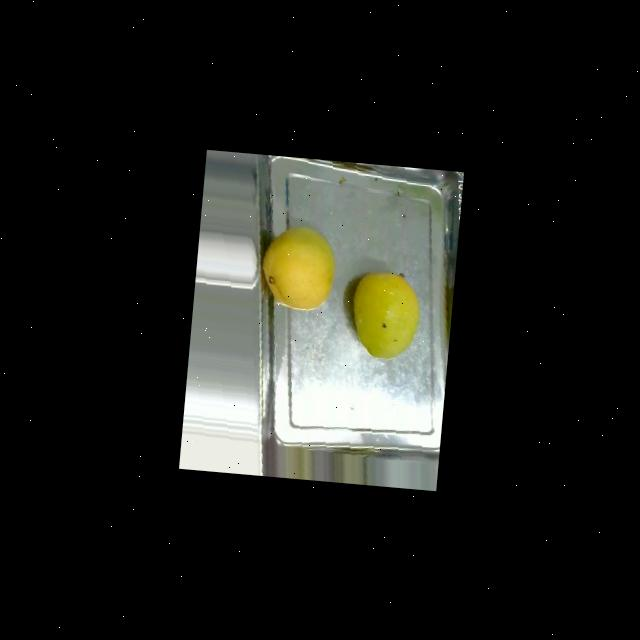Mango: (258, 223, 338, 314), (347, 268, 423, 362)
